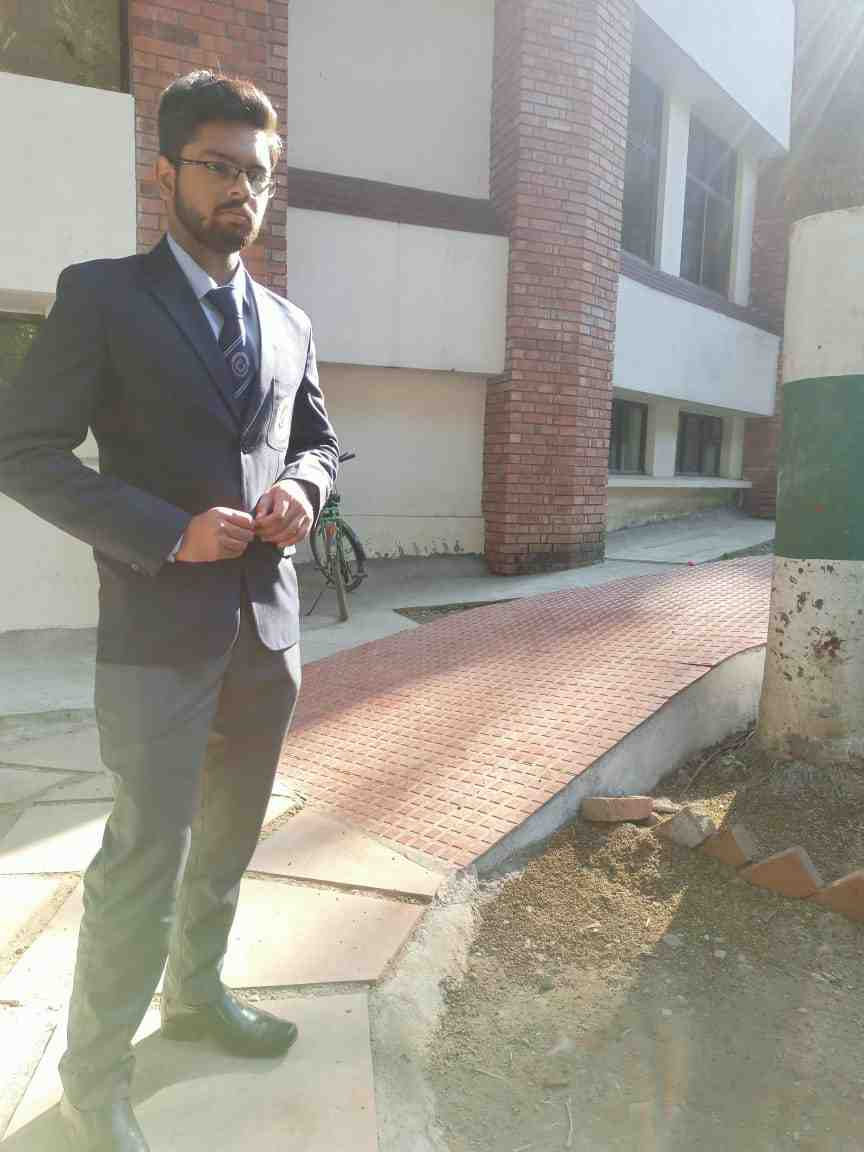blazer: (10, 246, 333, 669)
pant: (49, 605, 312, 1100)
tie: (210, 288, 277, 418)
